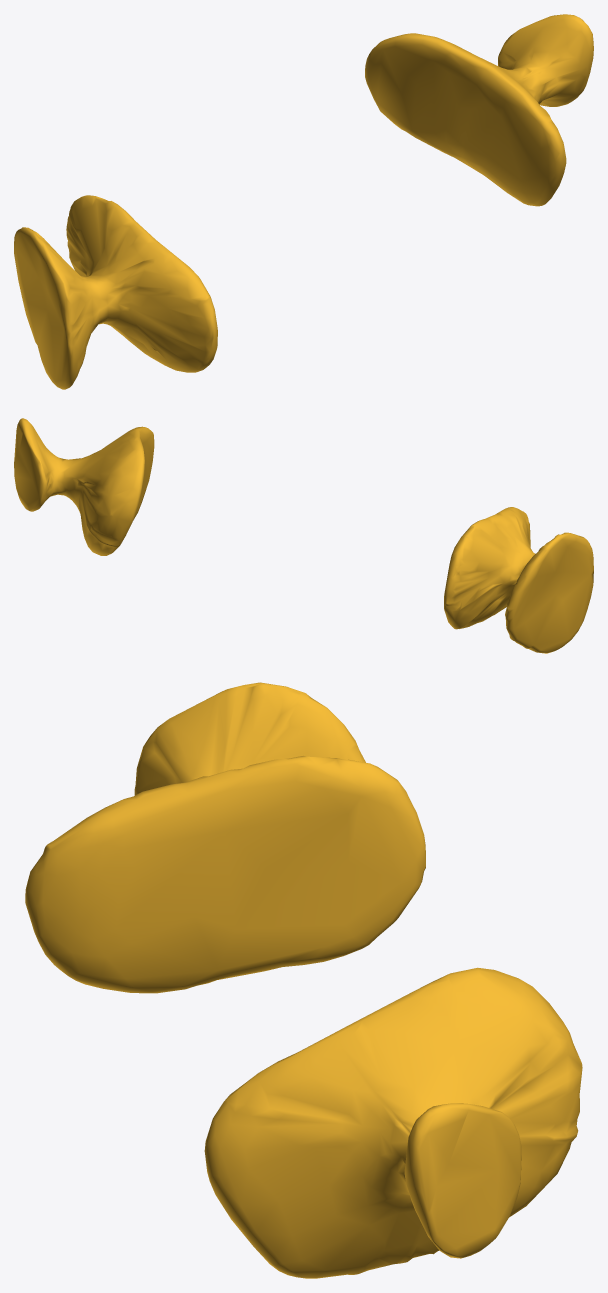
The model's file is nervoso-suspensory-ligament-of-eyeball-l.glb.
3 renders of one model, top to bottom at view 1: azimuth 30°, elevation 25°; view 2: azimuth 150°, elevation 25°; view 3: azimuth 270°, elevation 25°, orthographic. The views are drawn at different scales.
Visible parts, largest first — view 1: Suspensory ligament of eyeball.l; view 2: Suspensory ligament of eyeball.l; view 3: Suspensory ligament of eyeball.l.
Boxes of the visible parts, x1=… form: Suspensory ligament of eyeball.l: x1=14, y1=14, x2=593, y2=389; Suspensory ligament of eyeball.l: x1=14, y1=418, x2=593, y2=653; Suspensory ligament of eyeball.l: x1=25, y1=682, x2=582, y2=1278.
Bounding box in the file's own units: 0.0387 × 0.0116 × 0.0184.
